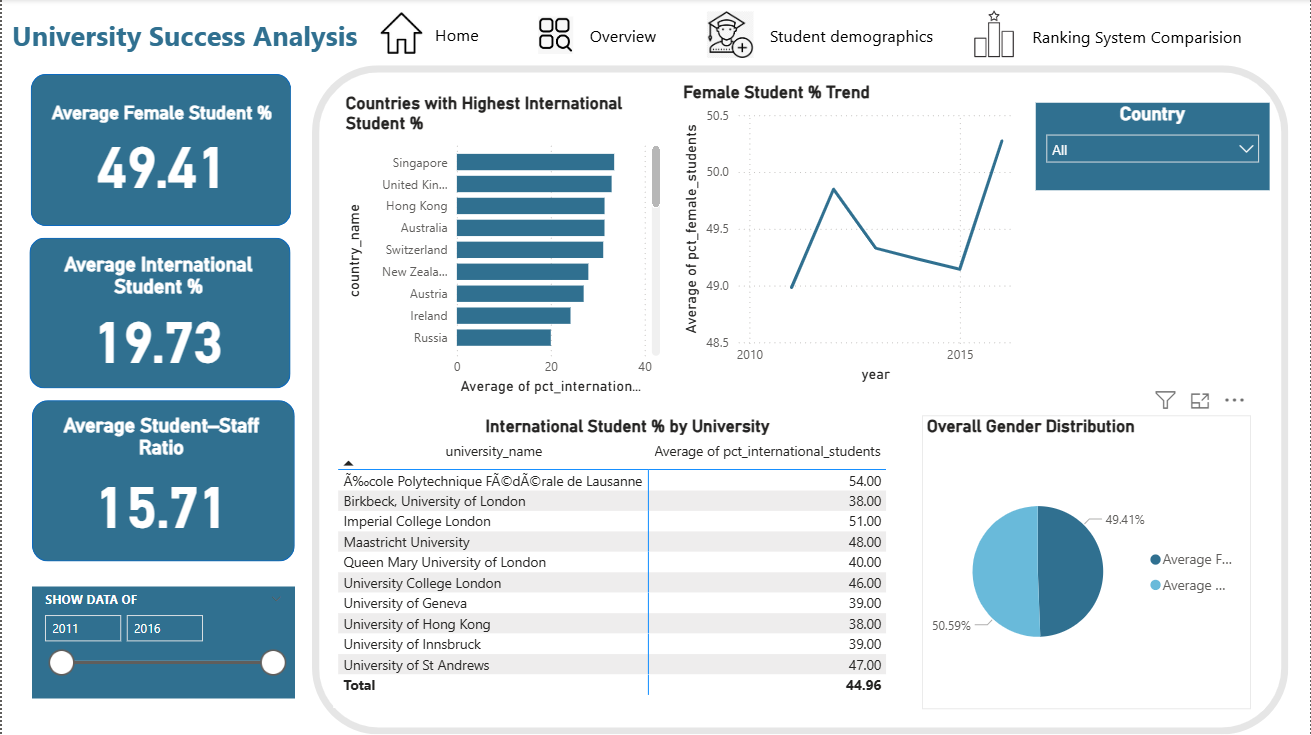

This screenshot's page, from the dashboard's own definition file:
{"tool":"powerbi","page":{"name":"Student Demographics","canvas":[1280,720],"ordinal":2},"visuals":[{"type":"shape","box":[302.8,65.2,955.1,654.8],"z":0},{"type":"shape","box":[28.3,73.8,254.8,148.7],"z":1000,"group":"g1"},{"type":"shape","box":[27.4,233.1,255.4,147.4],"z":1000},{"type":"card","title":"Count of University","fields":{"Values":["All Measures.Average Female %"]},"box":[37.9,91.5,228.8,122.5],"z":2000,"group":"g1"},{"type":"shape","box":[29.1,392.6,257.1,157.7],"z":2000},{"type":"card","title":"avg of studet staff ratio","fields":{"Values":["Avg(university_year.student_staff_ratio)"]},"box":[45.1,406.3,221.7,126.5],"z":3000},{"type":"card","title":"sum of no of students","fields":{"Values":["All Measures.Average International Students"]},"box":[28.8,248.8,247.5,118.8],"z":4000},{"type":"group","id":"g1","title":"Group 1","box":[28.3,73.8,254.8,148.7],"z":5000},{"type":"slicer","fields":{"Values":["university_year.year"]},"box":[18.9,574.3,257.1,132],"z":6000},{"type":"image","box":[365,0,53.3,65],"z":7000},{"type":"image","box":[516.7,11.7,48.3,46.7],"z":8000},{"type":"textbox","box":[5,11.7,348.3,46.7],"z":9000},{"type":"image","box":[685,5,55,60],"z":10000},{"type":"image","box":[943.8,5,52.5,60],"z":11000},{"type":"actionButton","title":"Home button","box":[418.8,18.8,53.8,31.2],"z":12000},{"type":"actionButton","title":"Overview button","box":[566.2,20,82.5,31.2],"z":13000},{"type":"actionButton","title":"Student Demographic Button","box":[740,20,182.5,31.2],"z":14000},{"type":"actionButton","title":"Ranking System Comparison Button","box":[996.2,21.2,227.5,31.2],"z":15000},{"type":"pieChart","title":"Average Gender Distribution","fields":{"Y":["All Measures.Average Female %","All Measures.Average Male %"]},"box":[922.4,406.3,301.9,286.6],"z":17000},{"type":"barChart","title":"Average Average of pct_international_students by country_name","fields":{"Y":["Avg(university_year.pct_international_students)"],"Category":["country.country_name"]},"box":[331.1,92.3,317.5,300.3],"z":18000},{"type":"pivotTable","fields":{"Rows":["university.university_name"],"Values":["Avg(university_year.pct_international_students)"]},"box":[324.2,407.7,576,286.6],"z":19000},{"type":"lineChart","fields":{"Y":["Avg(university_year.pct_female_students)"],"Category":["university_year.year"]},"box":[684.5,91.8,282.4,299.1],"z":20000},{"type":"slicer","fields":{"Values":["country.country_name"]},"box":[1040.7,90.4,140.5,286.6],"z":21000}]}

Visuals, with their boxes in screenshot pixels (x1, y1, x2, y2), scaled from the page's 1280x720 canvas onto the 1311x735 screenshot:
shape: {"x1": 310, "y1": 67, "x2": 1288, "y2": 734}
shape: {"x1": 29, "y1": 75, "x2": 290, "y2": 227}
shape: {"x1": 28, "y1": 238, "x2": 290, "y2": 388}
"Count of University" card: {"x1": 39, "y1": 93, "x2": 273, "y2": 218}
shape: {"x1": 30, "y1": 401, "x2": 293, "y2": 562}
"avg of studet staff ratio" card: {"x1": 46, "y1": 415, "x2": 273, "y2": 544}
"sum of no of students" card: {"x1": 29, "y1": 254, "x2": 283, "y2": 375}
"Group 1" group: {"x1": 29, "y1": 75, "x2": 290, "y2": 227}
slicer - university_year.year: {"x1": 19, "y1": 586, "x2": 283, "y2": 721}
image: {"x1": 374, "y1": 0, "x2": 428, "y2": 66}
image: {"x1": 529, "y1": 12, "x2": 579, "y2": 60}
textbox: {"x1": 5, "y1": 12, "x2": 362, "y2": 60}
image: {"x1": 702, "y1": 5, "x2": 758, "y2": 66}
image: {"x1": 967, "y1": 5, "x2": 1020, "y2": 66}
"Home button" actionButton: {"x1": 429, "y1": 19, "x2": 484, "y2": 51}
"Overview button" actionButton: {"x1": 580, "y1": 20, "x2": 664, "y2": 52}
"Student Demographic Button" actionButton: {"x1": 758, "y1": 20, "x2": 945, "y2": 52}
"Ranking System Comparison Button" actionButton: {"x1": 1020, "y1": 22, "x2": 1253, "y2": 53}
"Average Gender Distribution" pieChart: {"x1": 945, "y1": 415, "x2": 1254, "y2": 707}
"Average Average of pct_international_students by country_name" barChart: {"x1": 339, "y1": 94, "x2": 664, "y2": 401}
pivotTable - university.university_name x Avg(university_year.pct_international_students): {"x1": 332, "y1": 416, "x2": 922, "y2": 709}
lineChart - Avg(university_year.pct_female_students) x university_year.year: {"x1": 701, "y1": 94, "x2": 990, "y2": 399}
slicer - country.country_name: {"x1": 1066, "y1": 92, "x2": 1210, "y2": 385}
